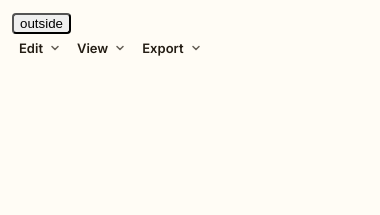
Test: pointer › hovering another menu while one is open switches to it; hovering with none open does nothing
This screenshot has width=380, height=215.
Hover over the menu item "View": (102, 48) top-left (70, 34), bottom-right (133, 62)
Click the menu item "Edit": (40, 48) top-left (12, 34), bottom-right (68, 62)
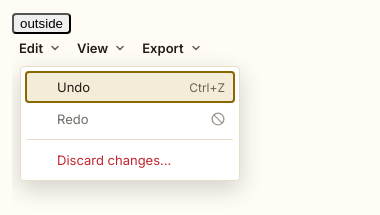
Hover over the menu item "Export": (172, 48) top-left (135, 34), bottom-right (209, 62)
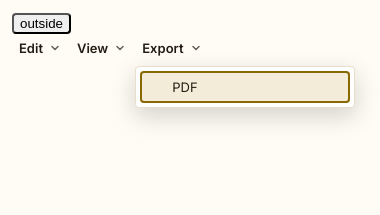
Expected: the menu named "Export" is shown, top-left (135, 66), bottom-right (355, 108)
